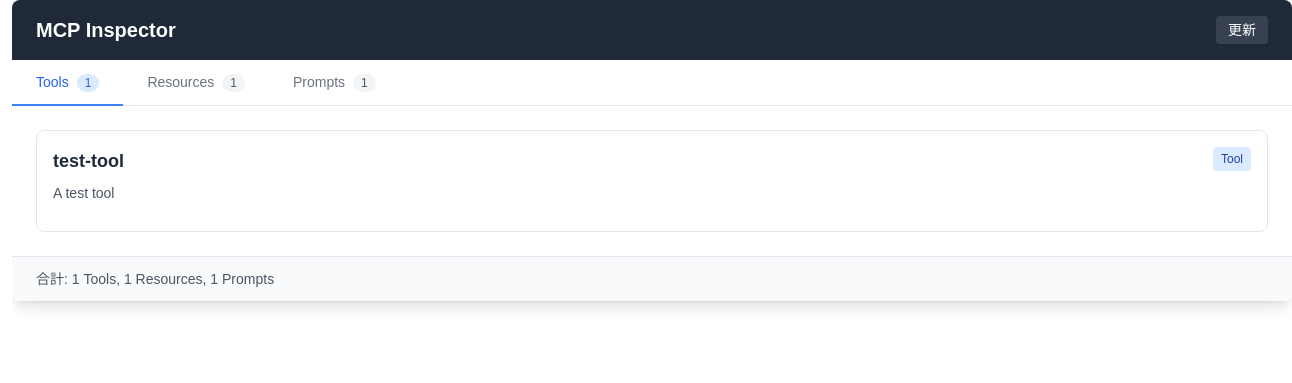
Scenario: InspectorPanel › switches tabs correctly
The image size is (1292, 383).
Switch to Resources
Click the tab "Resources1". click: point(196, 83)
box: [123,60,269,106]
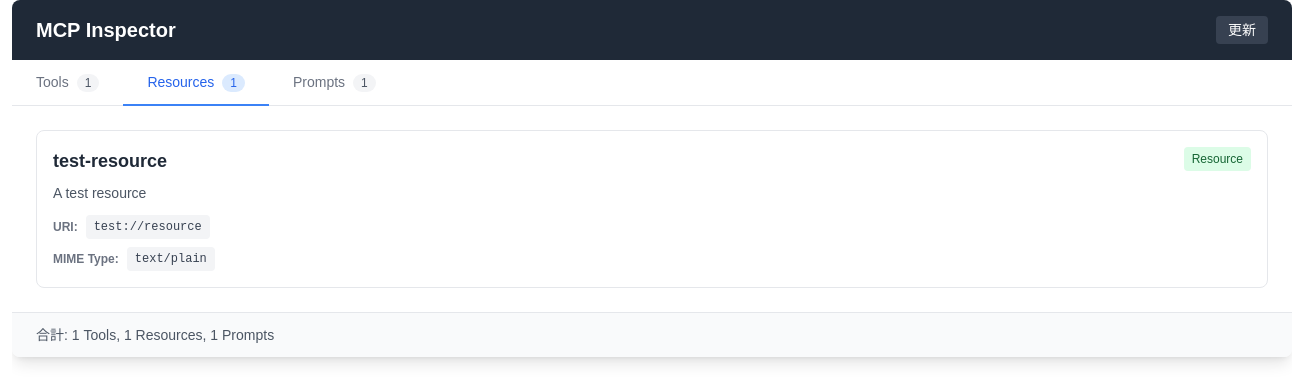
expect the element with test id "resources-list" is shown: met, box [36,130,1268,288]
expect the heading "test-resource" is shown: met, box [53,147,167,175]
expect the element with test id "tools-list" is gone: met
Switch to Prompts
Click the tab "Prompts1". click: point(334, 83)
box: [269,60,400,106]
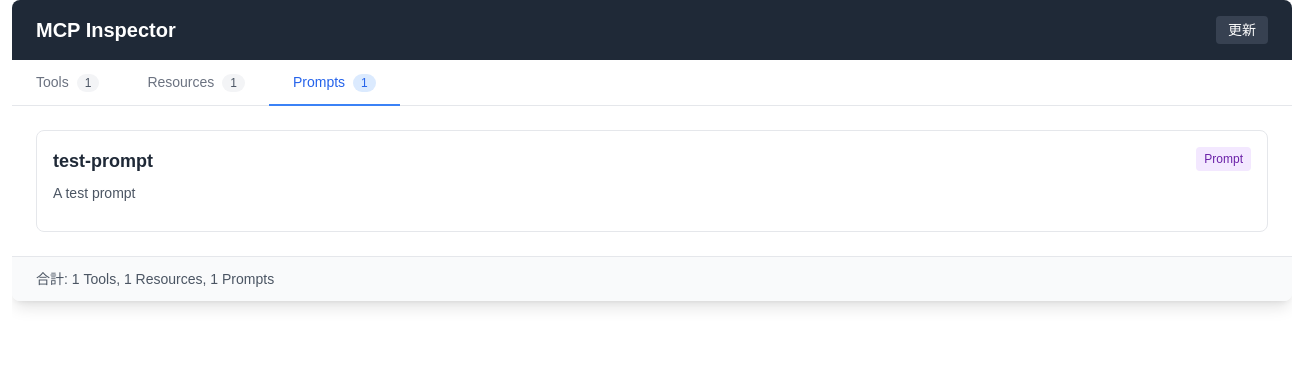
expect the element with test id "prompts-list" is shown: met, box [36,130,1268,232]
expect the heading "test-prompt" is shown: met, box [53,147,153,175]
expect the element with test id "resources-list" is gone: met
